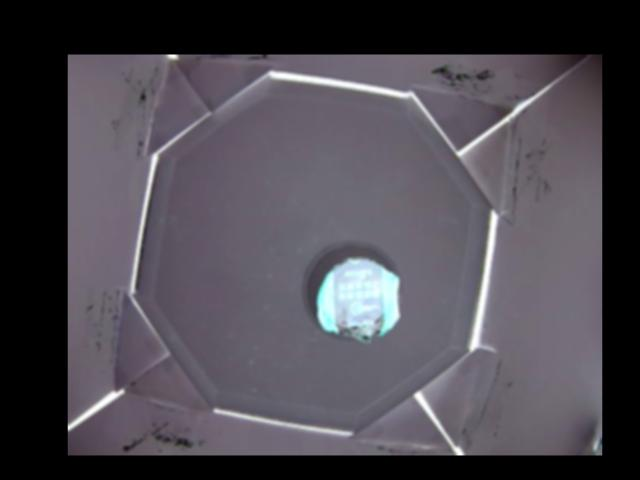Bottle: (300, 239, 401, 342)
